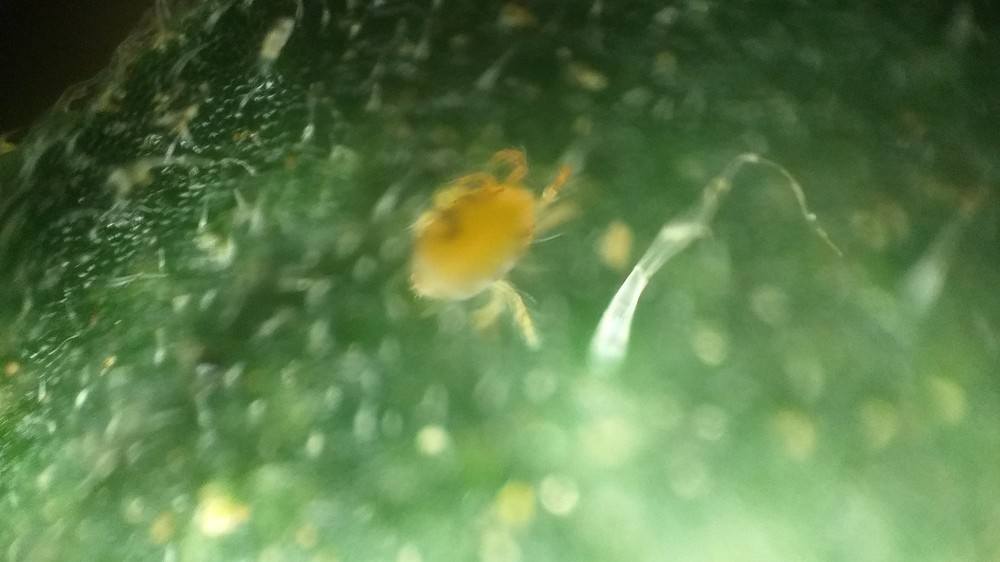Aracnido Rojo: (353, 123, 602, 347)
